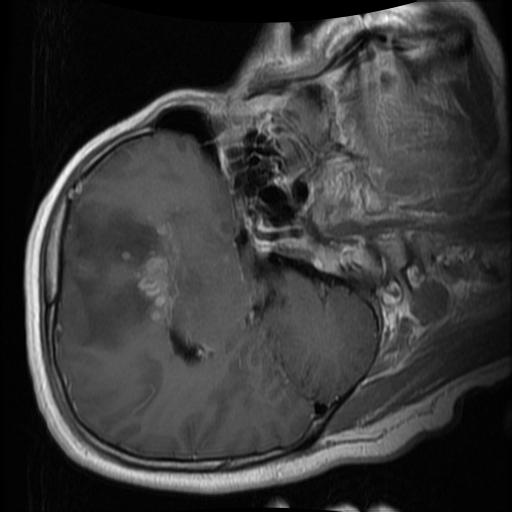glioma: (75, 203, 170, 345)
